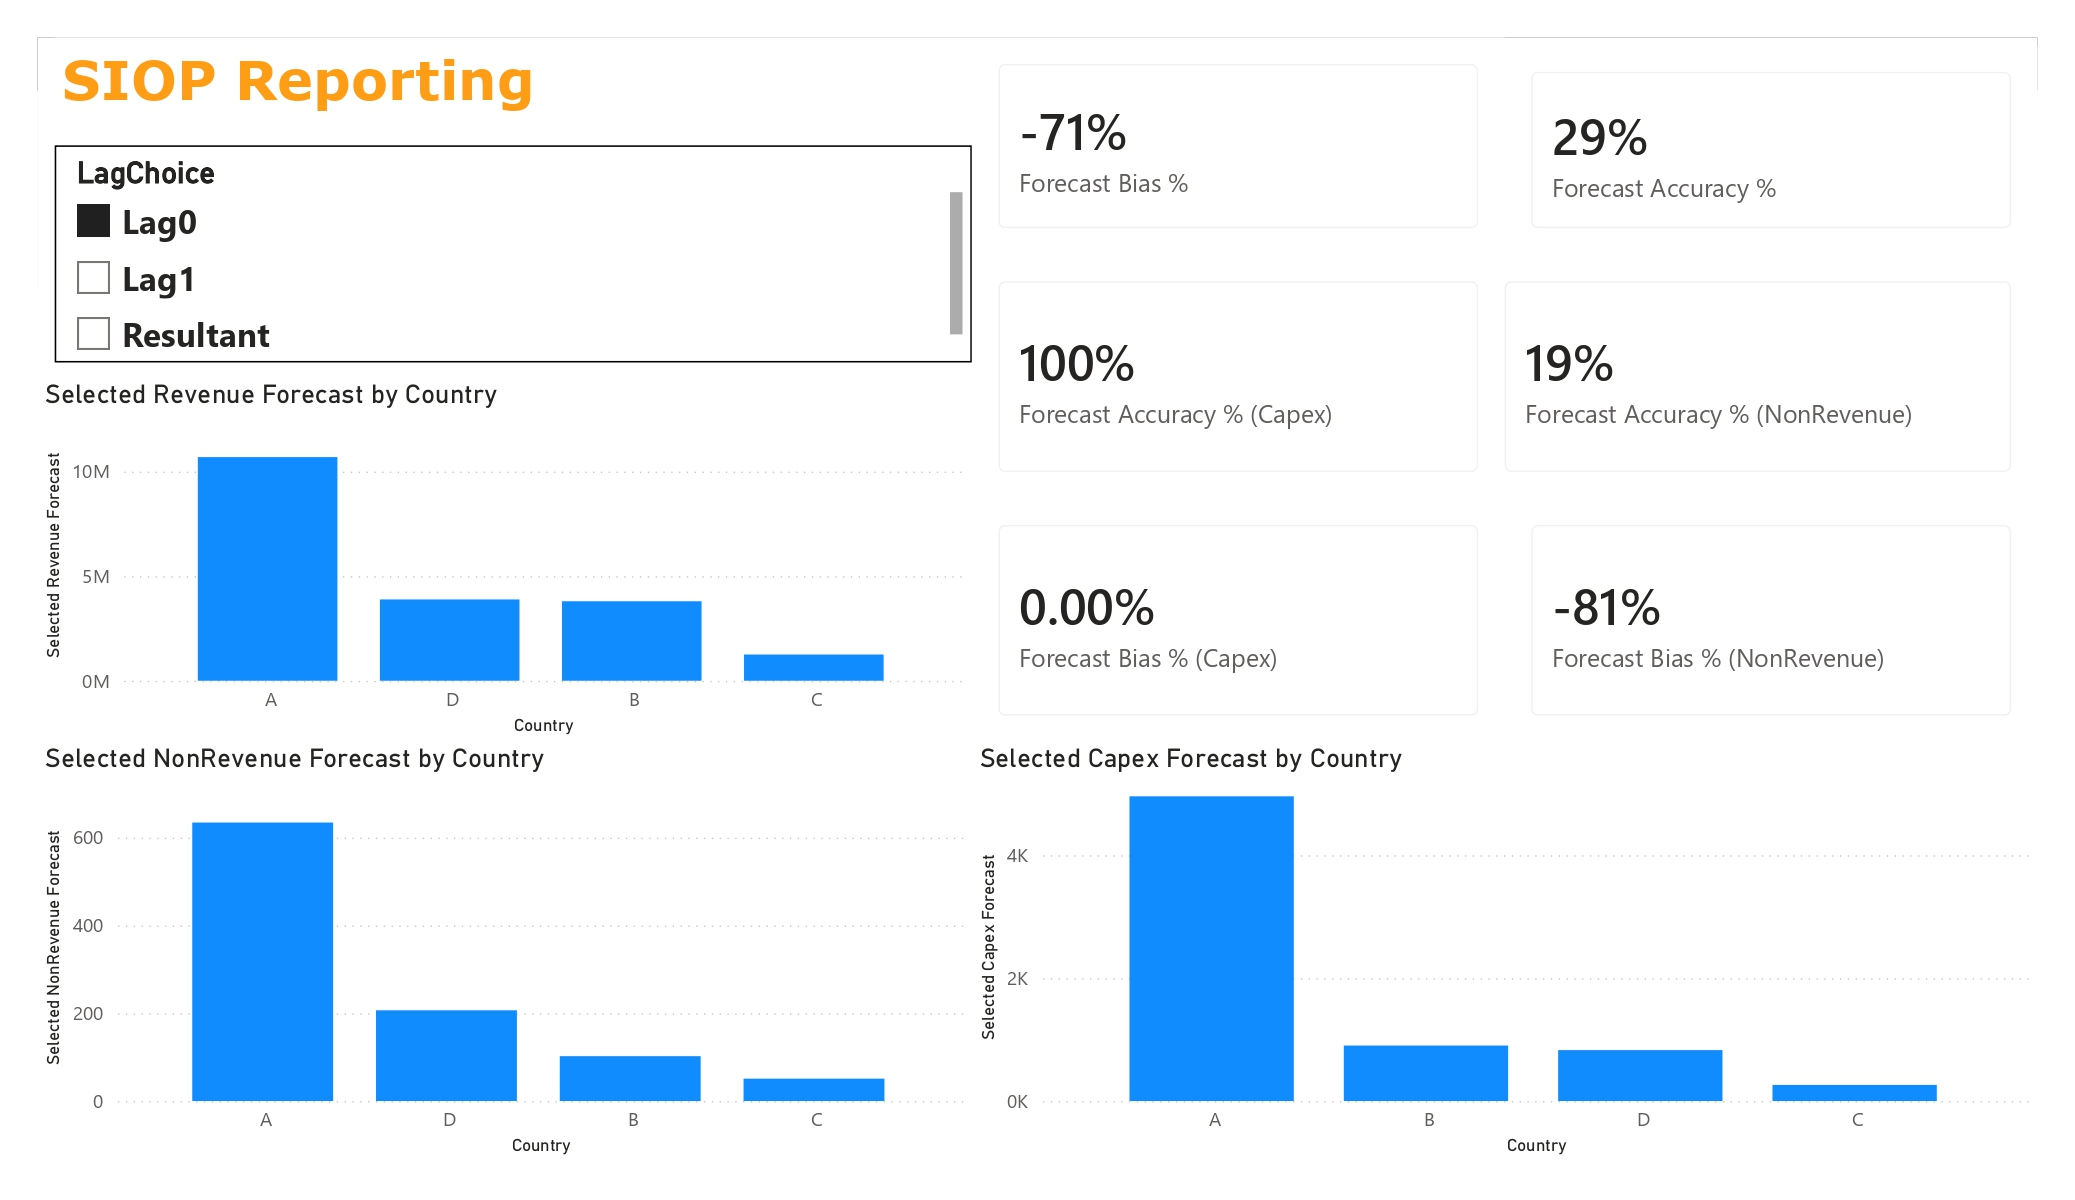

This screenshot's page, from the dashboard's own definition file:
{"tool":"powerbi","page":{"name":"Page 1","canvas":[1280,720],"ordinal":0},"visuals":[{"type":"slicer","fields":{"Values":["LagSelector.LagChoice"]},"box":[10.6,69,587.8,139.3],"z":0},{"type":"clusteredColumnChart","fields":{"Category":["Forecast.Country"],"Y":["Forecast.Selected Revenue Forecast"]},"box":[0,217.6,597.1,233.5],"z":1000},{"type":"clusteredColumnChart","fields":{"Category":["Forecast.Country"],"Y":["Forecast.Selected NonRevenue Forecast"]},"box":[0,451.2,597.6,268.3],"z":2000},{"type":"clusteredColumnChart","fields":{"Category":["Forecast.Country"],"Y":["Forecast.Selected Capex Forecast"]},"box":[597.6,451.2,682.9,268.3],"z":3000},{"type":"cardVisual","fields":{"Data":["Forecast.Forecast Bias %"]},"box":[597.6,0,341.5,139],"z":4000},{"type":"cardVisual","fields":{"Data":["Forecast.Forecast Accuracy %"]},"box":[939,4.9,341.5,134.1],"z":5000},{"type":"cardVisual","fields":{"Data":["Forecast.Forecast Accuracy % (Capex)"]},"box":[597.6,139,341.5,156.1],"z":6000},{"type":"cardVisual","fields":{"Data":["Forecast.Forecast Bias % (Capex)"]},"box":[598,295,341,156],"z":7000},{"type":"cardVisual","fields":{"Data":["Forecast.Forecast Accuracy % (NonRevenue)"]},"box":[922,139,358.5,156.1],"z":8000},{"type":"cardVisual","fields":{"Data":["Forecast.Forecast Bias % (NonRevenue)"]},"box":[939,295,341,156],"z":9000},{"type":"textbox","box":[10.6,0,587.8,65],"z":9001}]}

Visuals, with their boxes on the page's 1280x720 design canvas (x1, y1, x2, y2). These are canvas units, not pixel positions in the 2075x1200 screenshot, which may show the page scaled, cropped or inside an application window:
slicer - LagSelector.LagChoice: [x1=11, y1=69, x2=598, y2=208]
clusteredColumnChart - Forecast.Country x Forecast.Selected Revenue Forecast: [x1=0, y1=218, x2=597, y2=451]
clusteredColumnChart - Forecast.Country x Forecast.Selected NonRevenue Forecast: [x1=0, y1=451, x2=598, y2=720]
clusteredColumnChart - Forecast.Country x Forecast.Selected Capex Forecast: [x1=598, y1=451, x2=1280, y2=720]
cardVisual - Forecast.Forecast Bias %: [x1=598, y1=0, x2=939, y2=139]
cardVisual - Forecast.Forecast Accuracy %: [x1=939, y1=5, x2=1280, y2=139]
cardVisual - Forecast.Forecast Accuracy % (Capex): [x1=598, y1=139, x2=939, y2=295]
cardVisual - Forecast.Forecast Bias % (Capex): [x1=598, y1=295, x2=939, y2=451]
cardVisual - Forecast.Forecast Accuracy % (NonRevenue): [x1=922, y1=139, x2=1280, y2=295]
cardVisual - Forecast.Forecast Bias % (NonRevenue): [x1=939, y1=295, x2=1280, y2=451]
textbox: [x1=11, y1=0, x2=598, y2=65]
